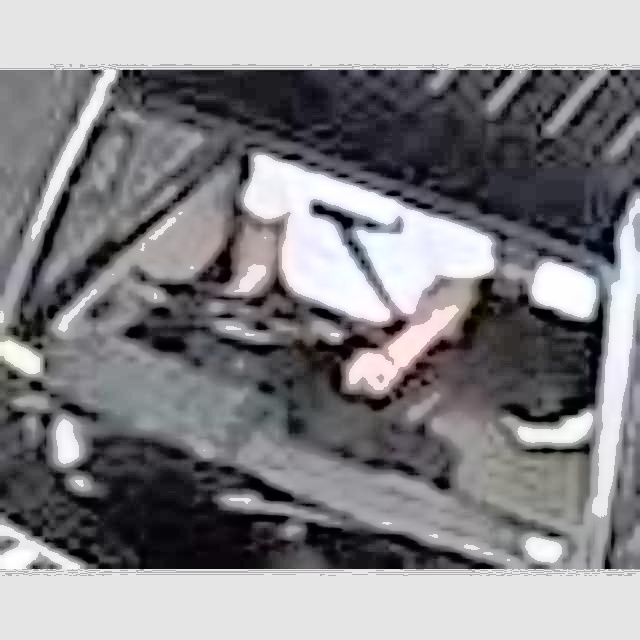pakai: (201, 161, 463, 363)
